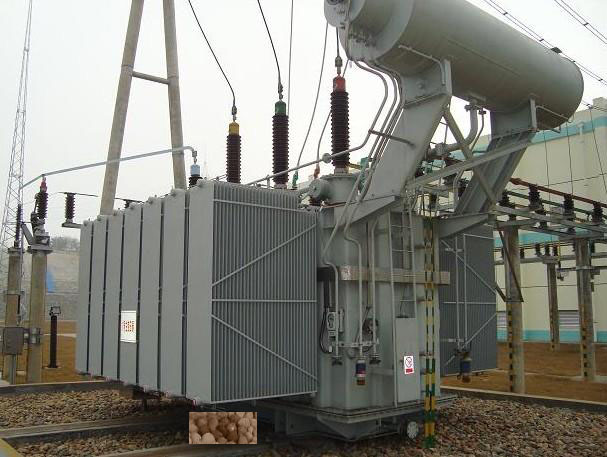oil: (189, 411, 256, 443)
